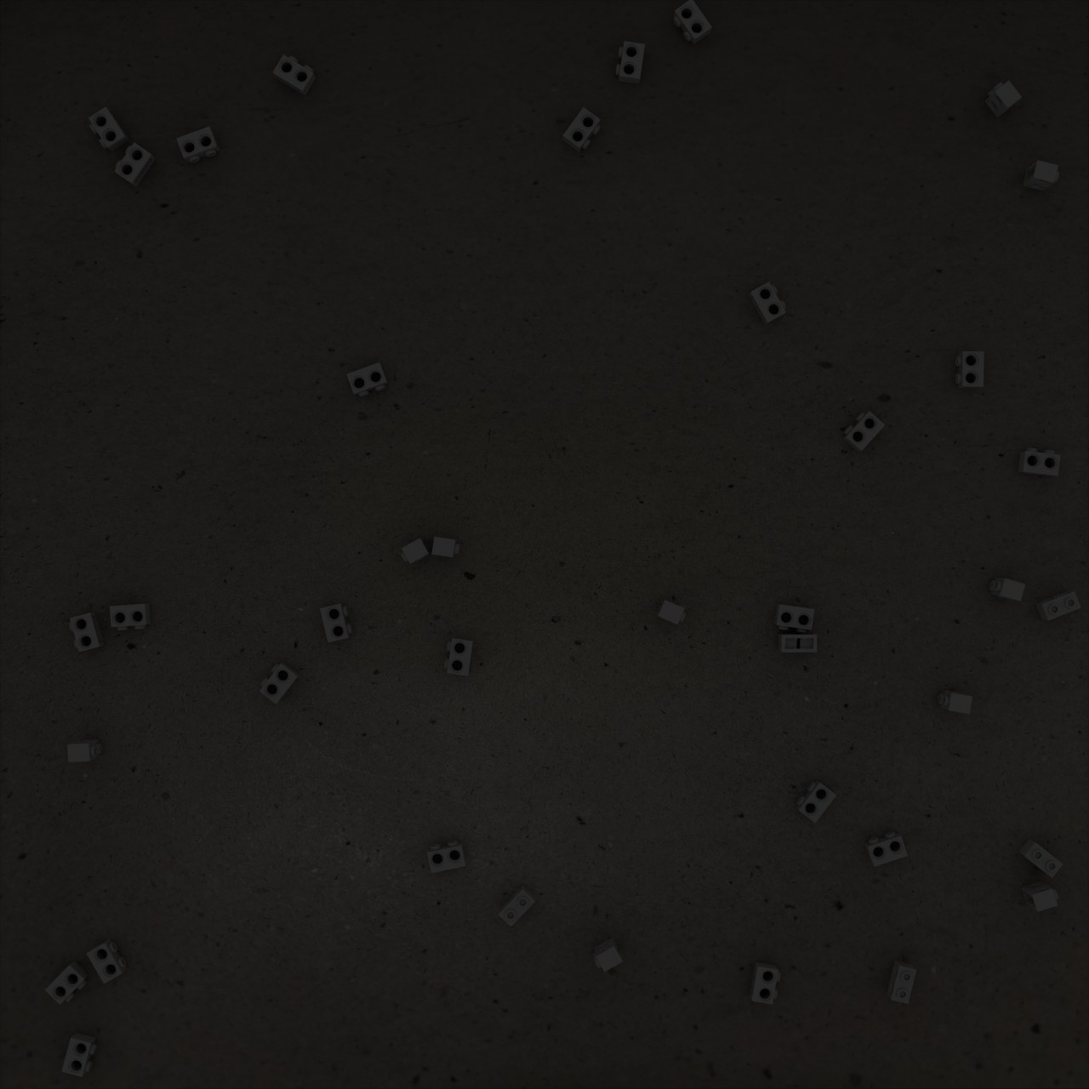lego: (45, 960, 90, 1005), (88, 106, 130, 152), (114, 142, 156, 187), (86, 938, 127, 984), (272, 54, 316, 96), (1018, 838, 1063, 878), (796, 780, 837, 823), (673, 0, 712, 45), (562, 107, 601, 152), (259, 662, 300, 704), (843, 411, 885, 452), (748, 282, 787, 325), (176, 126, 220, 163), (61, 1032, 97, 1077), (498, 885, 536, 927), (864, 831, 908, 867), (346, 362, 389, 397), (69, 612, 105, 652), (749, 961, 781, 1005), (985, 80, 1022, 118), (1035, 591, 1081, 621), (886, 960, 917, 1004), (427, 840, 467, 873), (615, 41, 645, 84), (320, 603, 352, 643), (1018, 448, 1061, 477), (774, 604, 815, 633), (444, 637, 474, 676), (1021, 881, 1058, 912), (1022, 160, 1059, 191), (110, 603, 151, 630), (955, 351, 984, 389), (593, 937, 623, 972), (989, 578, 1026, 601), (938, 690, 973, 714), (655, 599, 686, 625), (400, 538, 431, 564), (67, 739, 102, 762), (778, 633, 817, 653), (432, 537, 460, 557)
